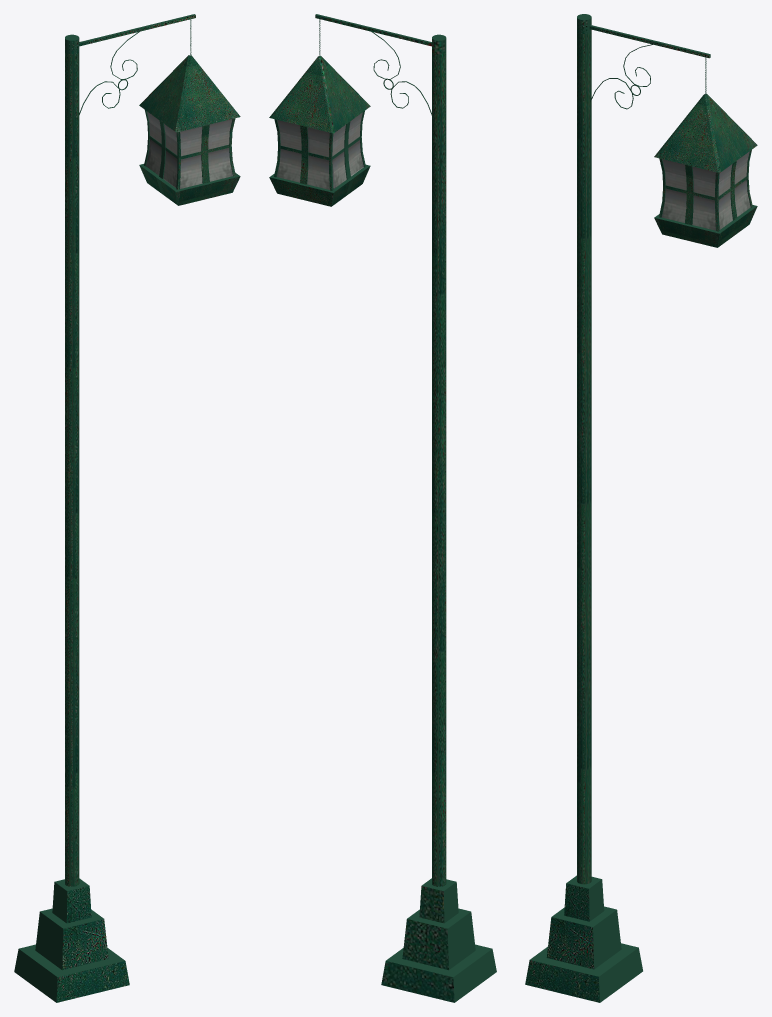
The model's file is Posteluz.fbx.
3 views of the same model, side by side, from view 1: azimuth 30°, elevation 25°; view 2: azimuth 150°, elevation 25°; view 3: azimuth 330°, elevation 25° (orthographic). The views are drawn at different scales.
Visible parts, largest first — view 1: Cube.002; view 2: Cube.002; view 3: Cube.002.
Boxes of the visible parts, bbox=[...] form: Cube.002: bbox=[14, 14, 240, 1002]; Cube.002: bbox=[269, 14, 496, 1002]; Cube.002: bbox=[525, 14, 757, 1002].
Bounding box in the file's own units: 121 × 580 × 47.33.
2 materials, 2 textured.
